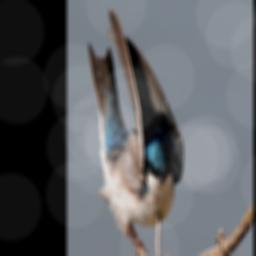Swallow: (87, 7, 185, 256)
